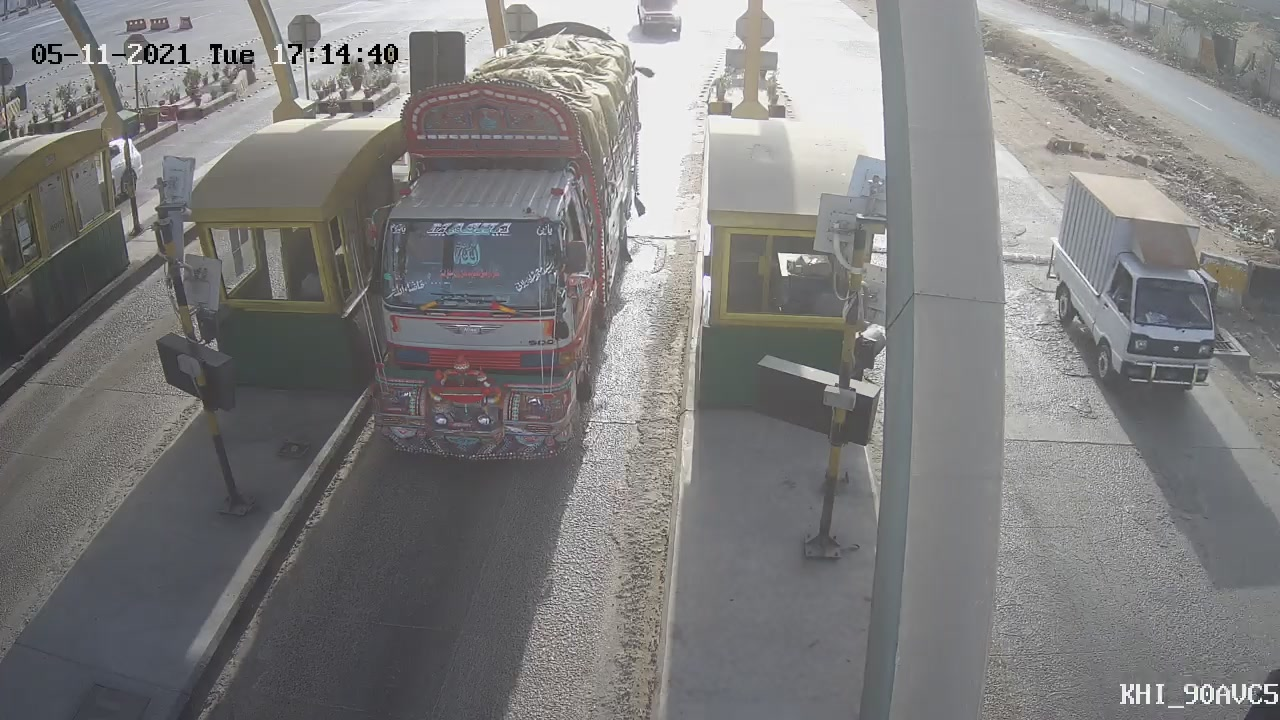F5: (313, 11, 664, 495)
